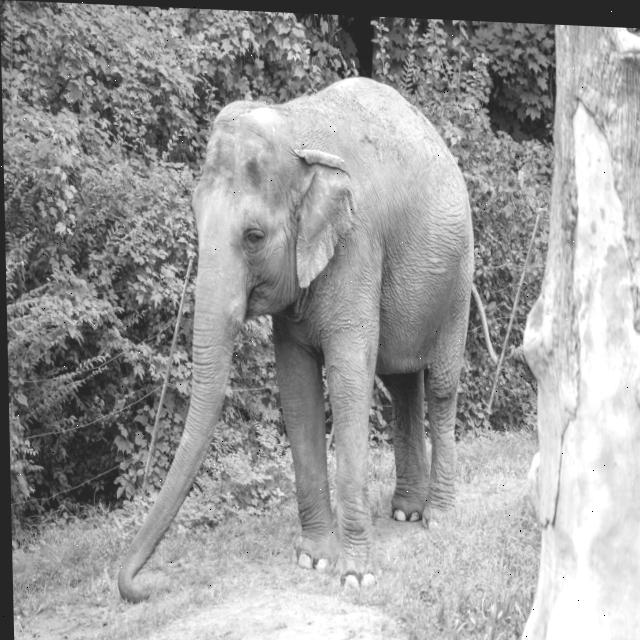Elephant: (105, 64, 504, 620)
